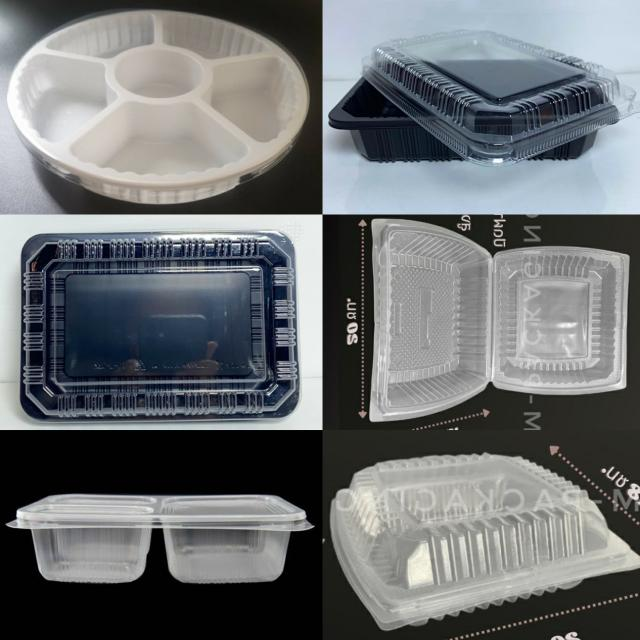plastik: (7, 10, 308, 204), (330, 452, 640, 630), (368, 219, 630, 421), (21, 231, 298, 420), (363, 31, 635, 165), (329, 47, 618, 164), (9, 494, 312, 584)
